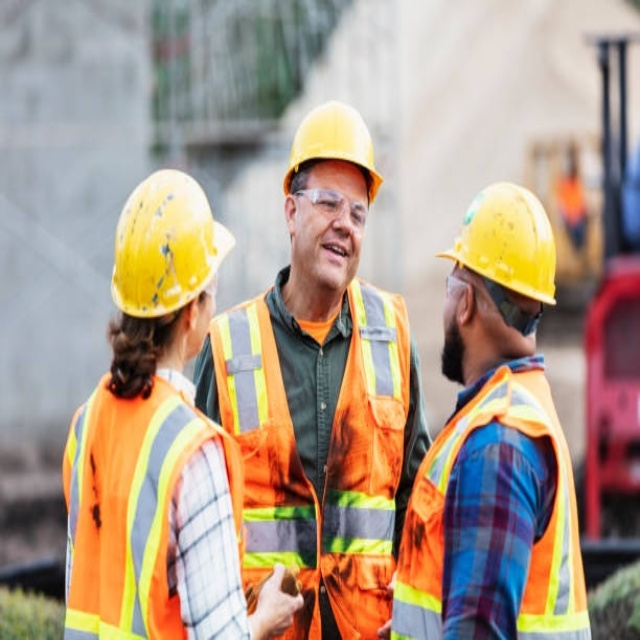Gafas: (289, 185, 371, 226), (443, 268, 473, 303), (200, 271, 221, 307)
Sin_guantes: (252, 561, 306, 640)
Sin_mascara: (314, 234, 356, 285)
